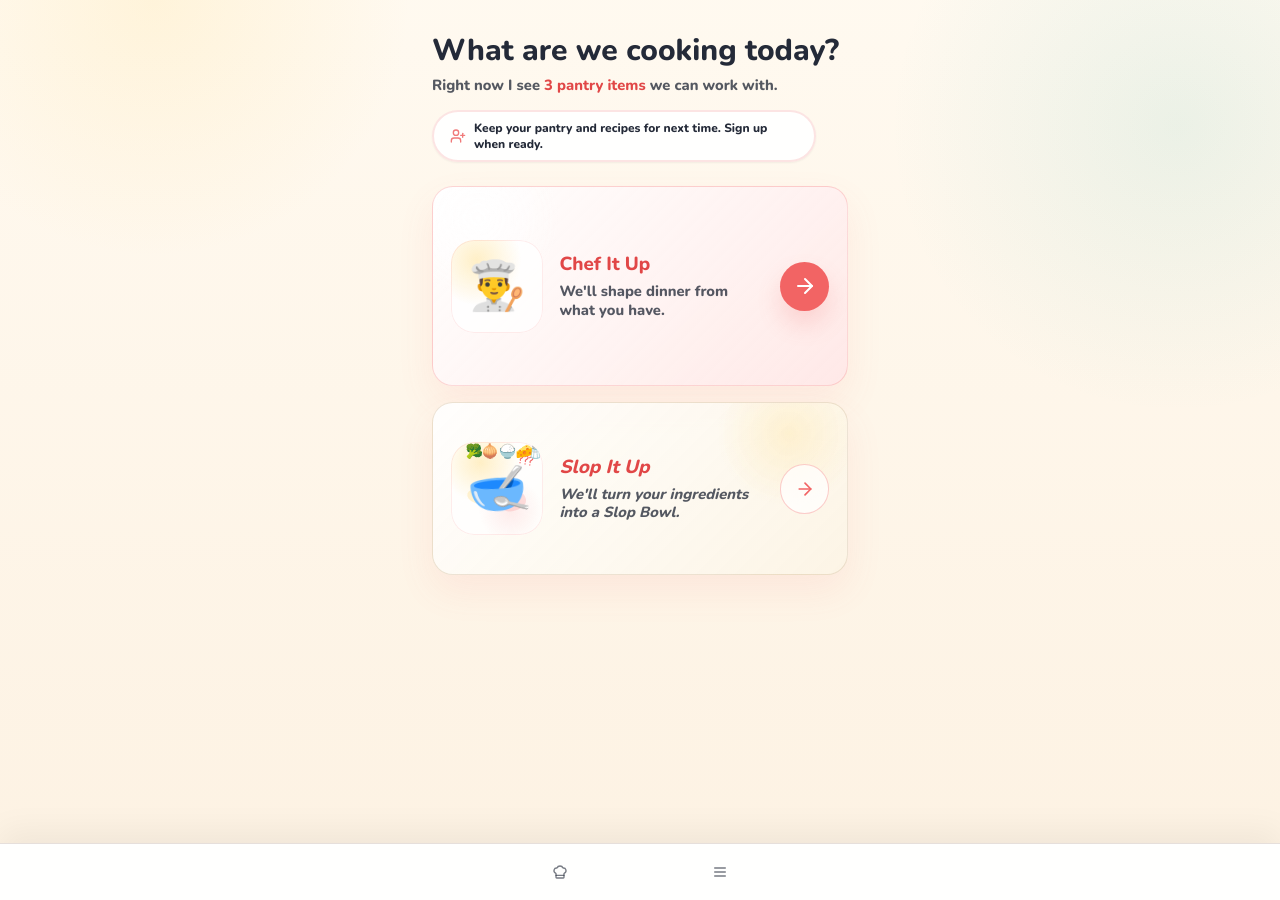
it: MobileApp planning choice pantry status › imports this-browser guest setup into the linked Google account on sign-up
Expected: the heading "What are we cooking today?" is shown, 432,32 -> 839,70
What coordinates should you click on to do the following:
click the button "Keep your pantry and recipes for next time"
I would click on:
 (624, 136)
Its box is 432,110 -> 816,162.
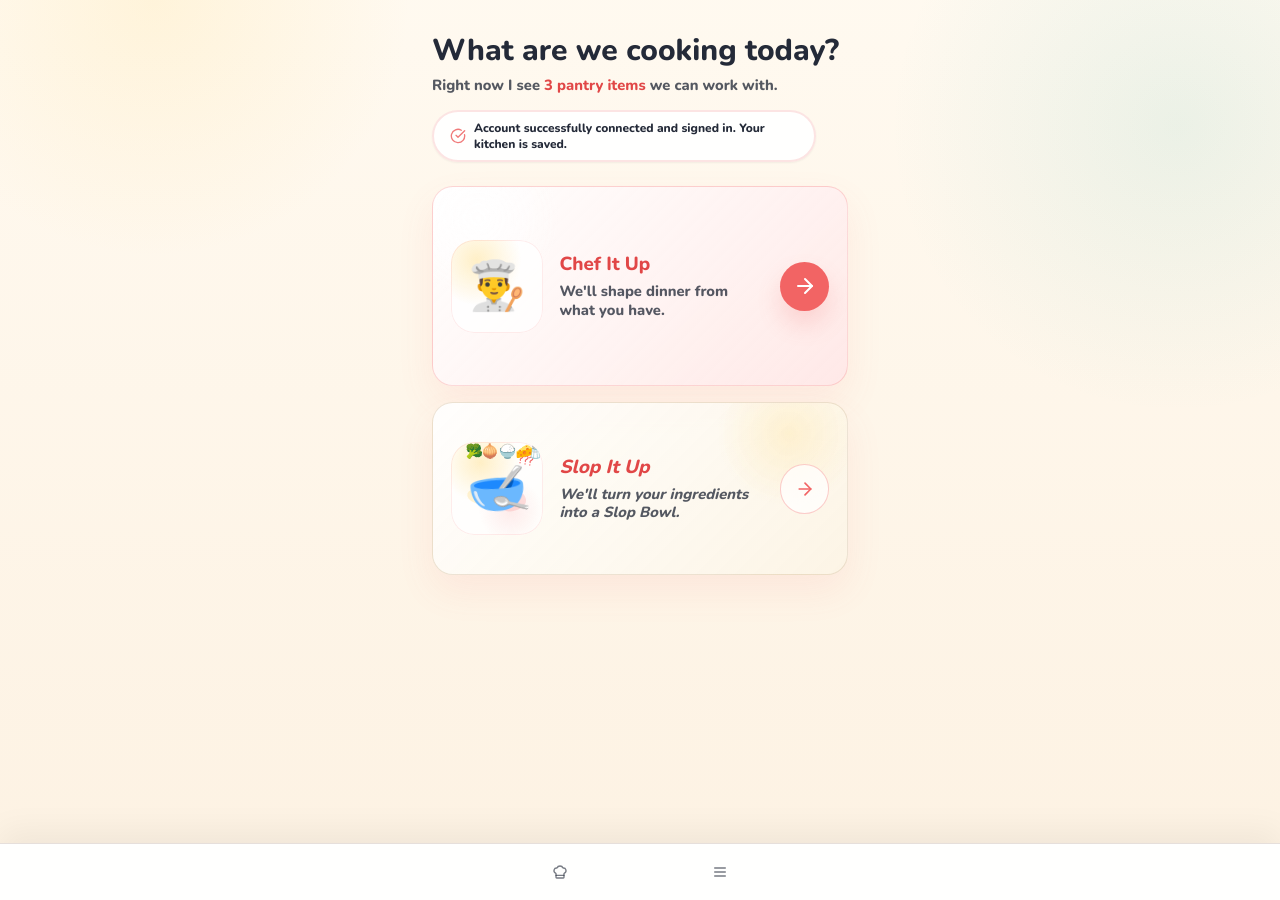
Now the text "Account successfully connected and signed in. Your kitchen is saved." is shown, box 474,120 -> 798,152
